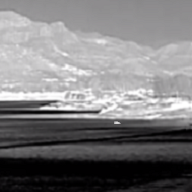Target: (113, 121, 121, 125)
